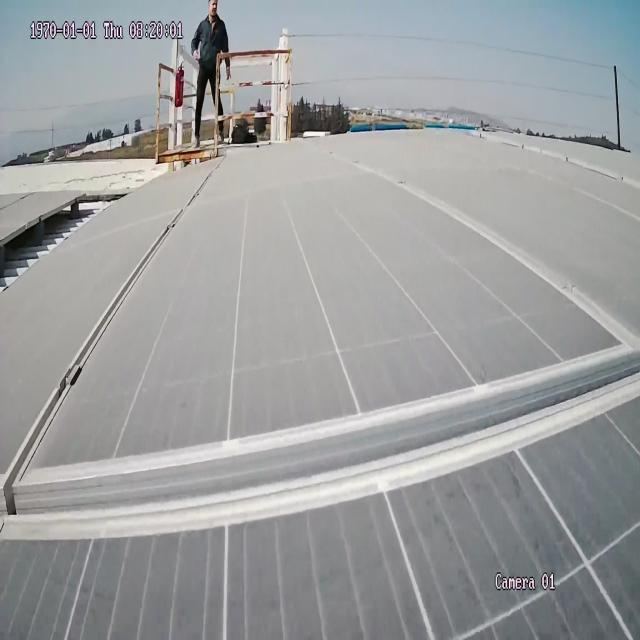interior panel: (0, 160, 640, 538)
outher panel: (0, 189, 129, 291)
